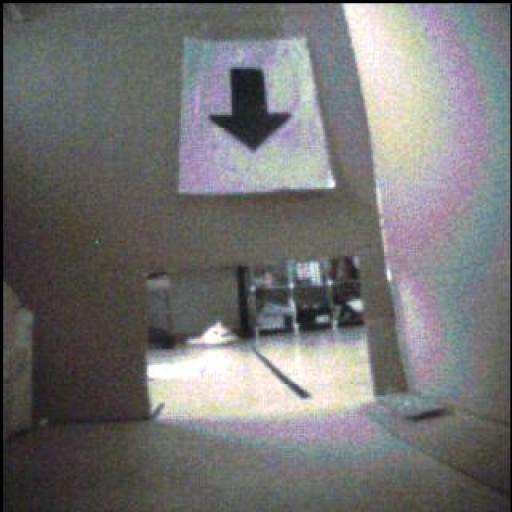arrow: (211, 70, 292, 151)
